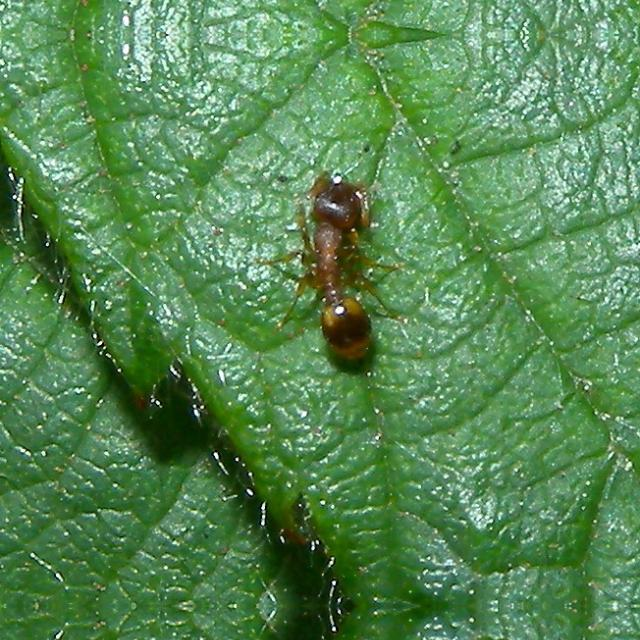Temnothorax: (260, 147, 416, 379)
